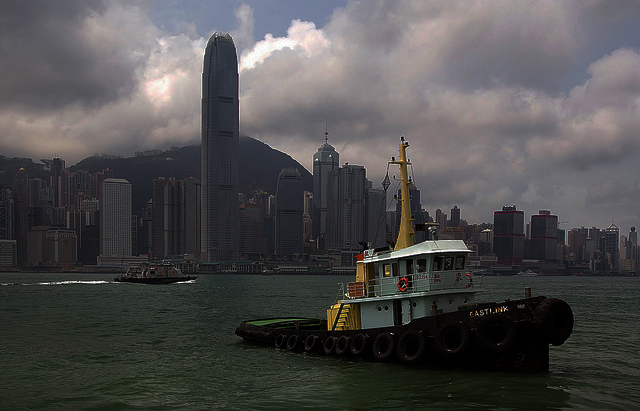boat: (111, 252, 200, 287)
tug_boat: (239, 143, 580, 374)
